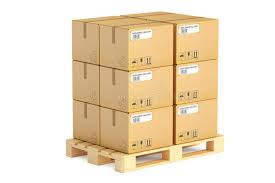box: (128, 105, 174, 152), (128, 24, 173, 70), (174, 98, 218, 145), (175, 19, 219, 64), (175, 59, 218, 104), (99, 24, 129, 72), (71, 99, 100, 148), (99, 105, 128, 154), (99, 65, 128, 113), (71, 59, 99, 107), (71, 19, 99, 65)
box_label: (177, 102, 200, 117), (129, 27, 154, 40), (130, 111, 153, 124), (130, 71, 154, 82), (178, 23, 200, 34), (178, 64, 200, 75)
pallet: (64, 133, 225, 172)
